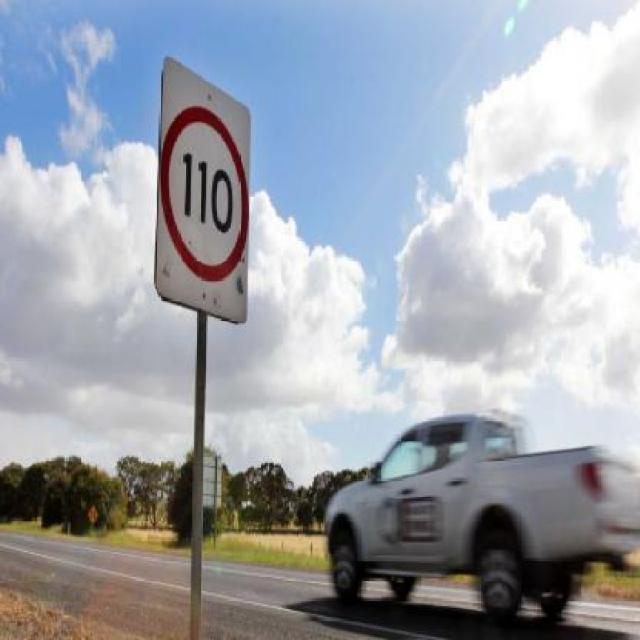speed limit 110: (162, 105, 251, 283)
